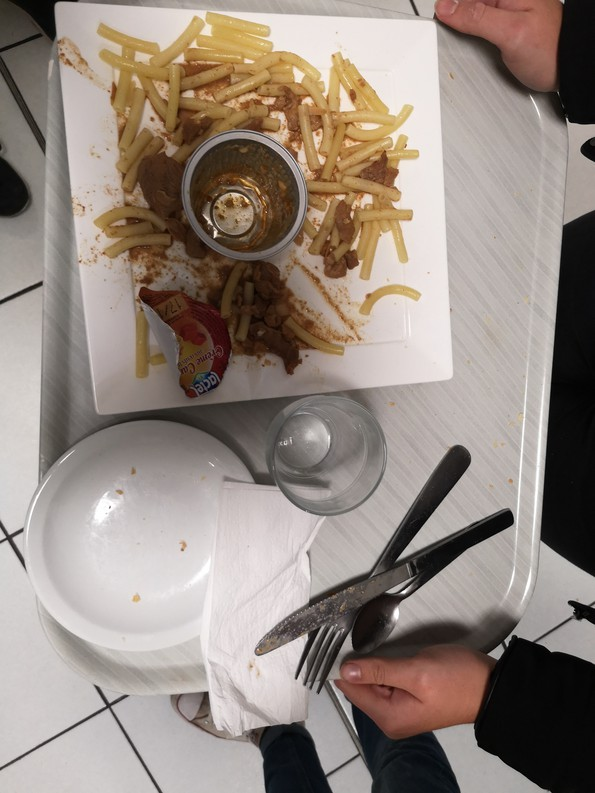cup: (261, 391, 401, 513)
cutlery: (249, 443, 530, 694)
orga: (100, 10, 402, 137), (313, 122, 403, 293), (88, 119, 178, 279)
trash: (213, 475, 324, 741), (175, 134, 318, 269), (129, 284, 238, 405)
